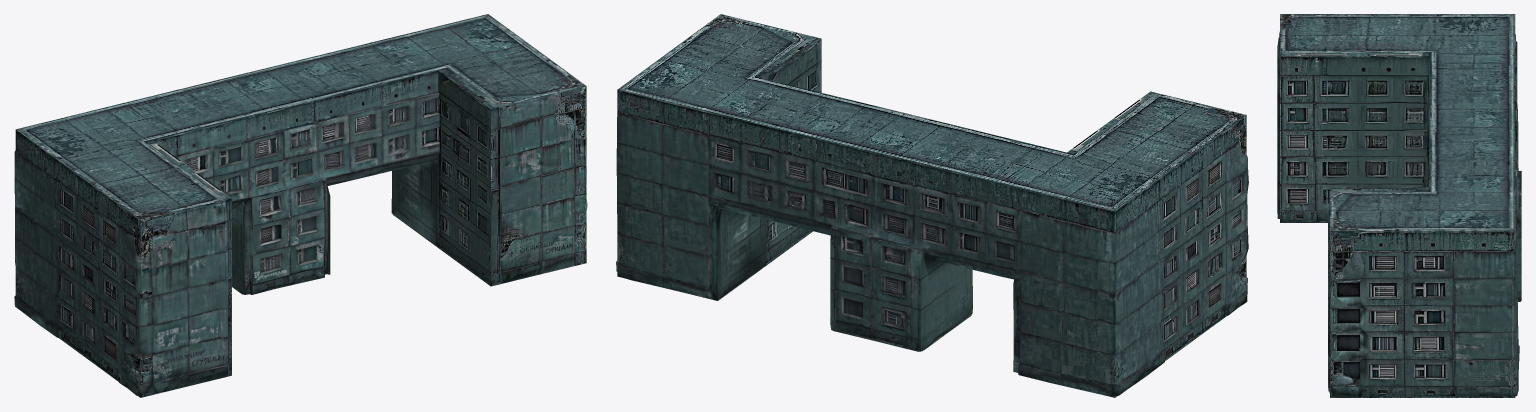
Rendered from brutalist-building-2-cbake.glb.
3 views of the same model, side by side, from view 1: azimuth 30°, elevation 25°; view 2: azimuth 150°, elevation 25°; view 3: azimuth 270°, elevation 25° (orthographic). The views are drawn at different scales.
Parts seen in each view (by area): view 1: tripo_node_fbbb6bd4-6151-4660-9e66-ae3afa52771e, Building; view 2: tripo_node_fbbb6bd4-6151-4660-9e66-ae3afa52771e, Building; view 3: Building, tripo_node_fbbb6bd4-6151-4660-9e66-ae3afa52771e.
Part boxes in pixels (box(x1,y1,x2,y2)): tripo_node_fbbb6bd4-6151-4660-9e66-ae3afa52771e: box(14, 76, 587, 395); Building: box(15, 14, 586, 397); tripo_node_fbbb6bd4-6151-4660-9e66-ae3afa52771e: box(616, 113, 1248, 396); Building: box(617, 14, 1246, 397); Building: box(1280, 14, 1515, 397); tripo_node_fbbb6bd4-6151-4660-9e66-ae3afa52771e: box(1277, 32, 1521, 397).
Bounding box in the file's own units: 1 × 0.354 × 0.4703.
Materials: 2 (2 with a texture image).
